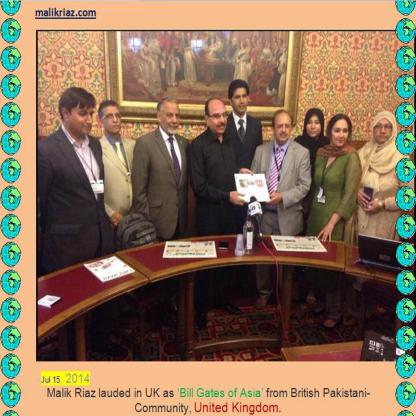face: (71, 105, 95, 136), (162, 102, 181, 134), (210, 104, 228, 135), (104, 107, 122, 134), (374, 120, 393, 145), (332, 121, 349, 148), (275, 116, 292, 142), (233, 90, 249, 114), (306, 114, 322, 138), (280, 61, 285, 71), (128, 51, 132, 57), (153, 36, 157, 42), (146, 39, 149, 46), (162, 32, 166, 37), (253, 37, 256, 43), (234, 40, 237, 46), (188, 34, 191, 40), (126, 37, 129, 43), (266, 42, 269, 47), (244, 55, 247, 60), (241, 56, 244, 61), (241, 42, 244, 47), (176, 33, 179, 38), (252, 48, 255, 53), (247, 40, 250, 44), (169, 32, 172, 36), (218, 43, 221, 47), (284, 48, 286, 53), (280, 40, 282, 45), (274, 38, 276, 43), (261, 39, 263, 44), (183, 34, 185, 39), (211, 33, 213, 38)
